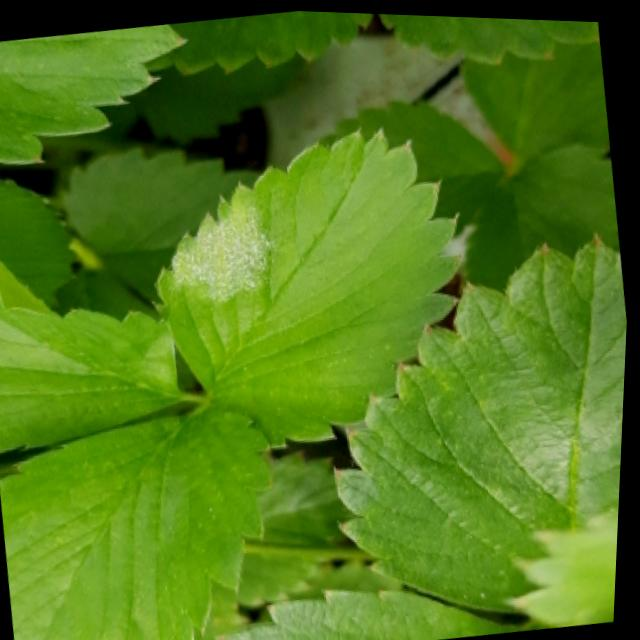Powdery Mildew Leaf: (154, 123, 466, 446)
